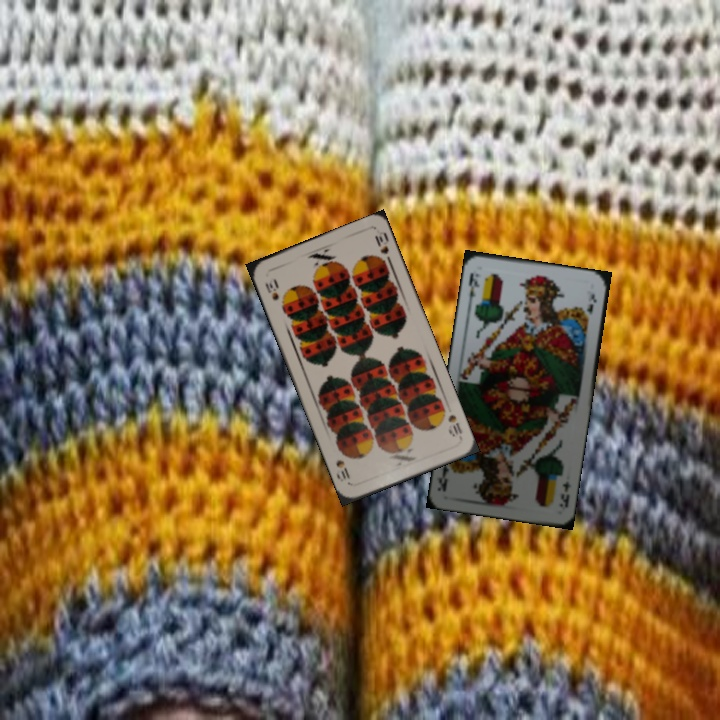EK: (464, 269, 482, 307), (555, 477, 574, 512)
S10: (444, 410, 465, 439), (261, 275, 281, 303)
